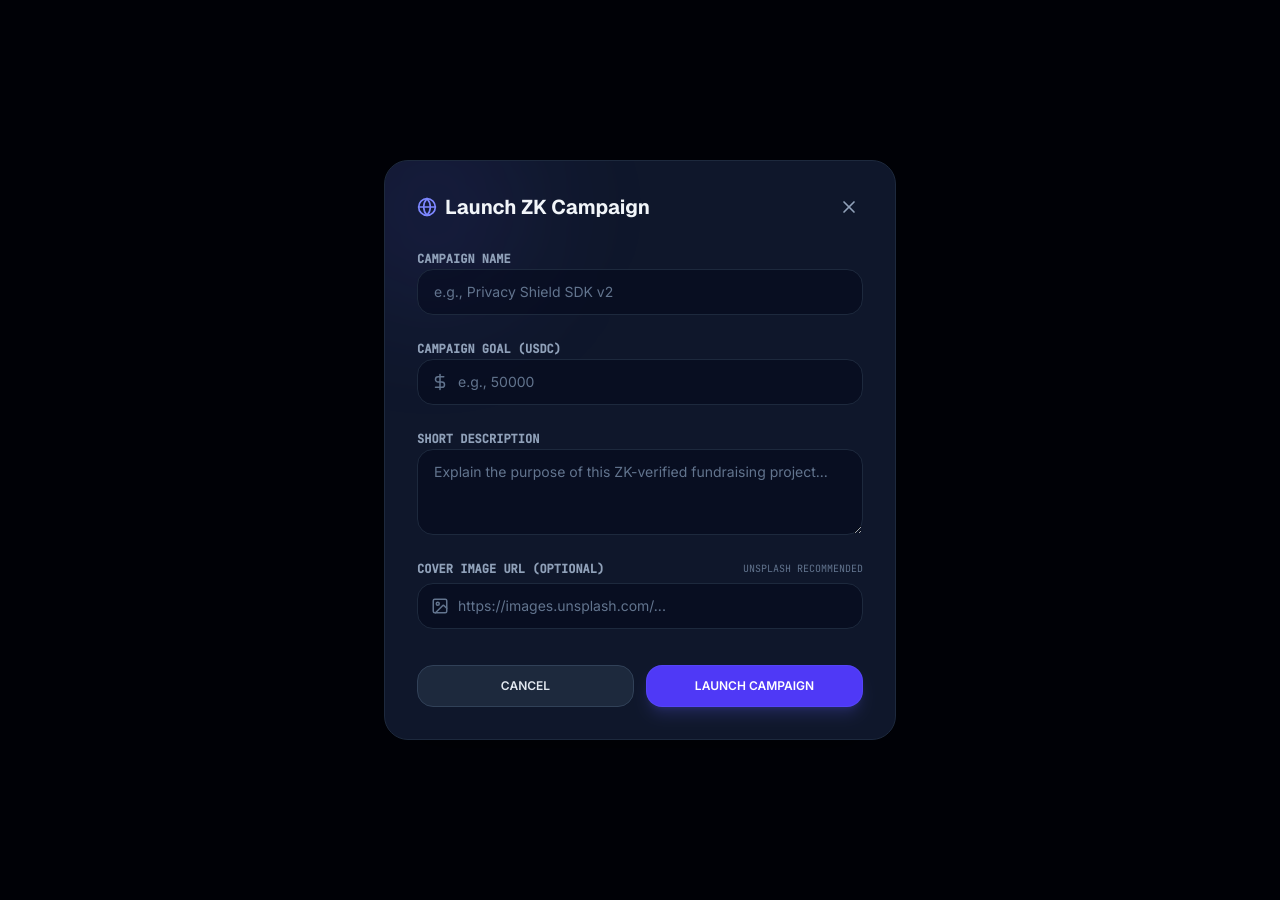
Test: LaunchCampaignModal › rejects non-https cover images before submitting
The width and height of the screenshot is (1280, 900).
Step 1. Type " Relief Q4 " into the field with placeholder "e.g., Privacy Shield SDK v2" → (640, 292), box [417, 269, 863, 315]
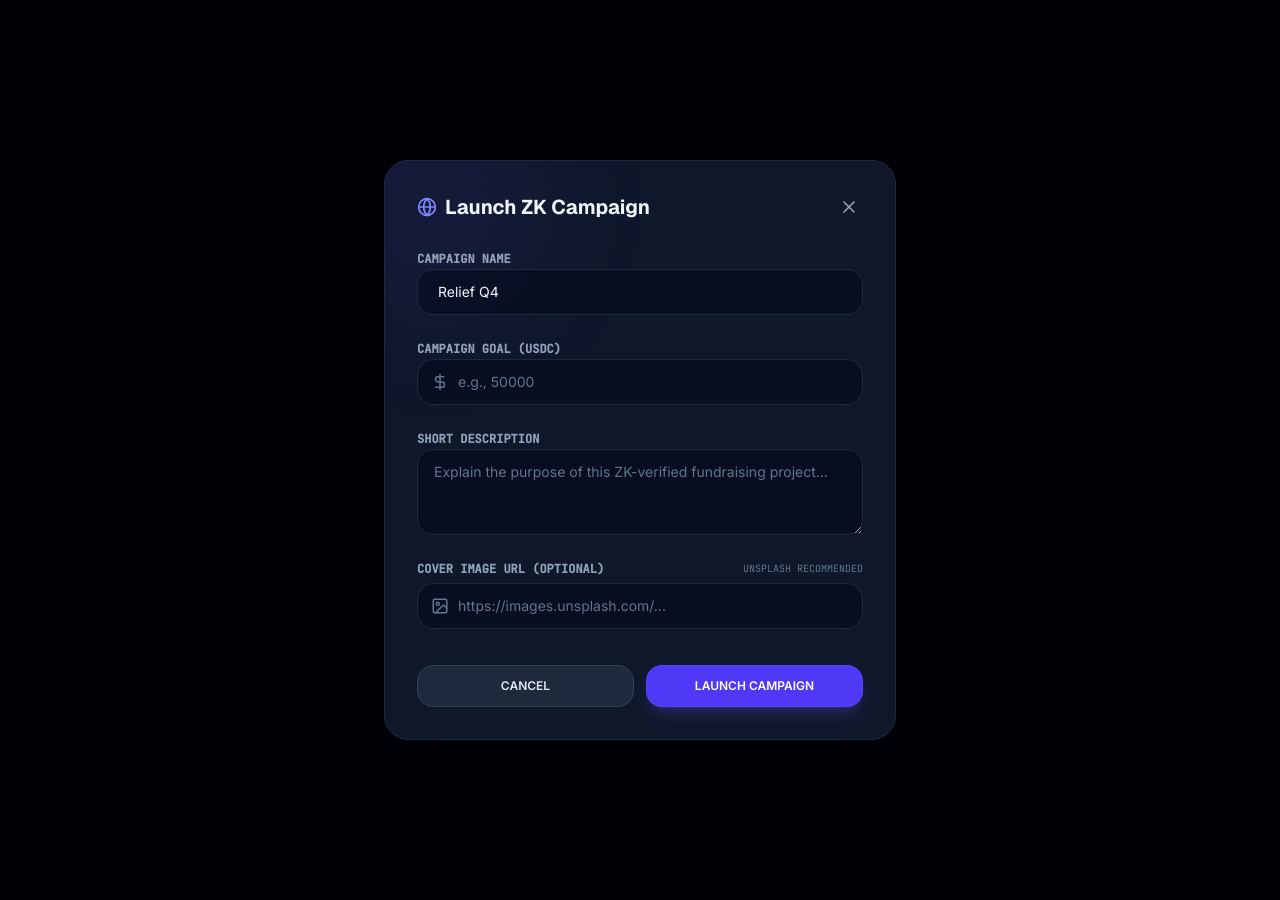
Step 2. Type "2500" into the number field with placeholder "e.g., 50000" → (640, 382), box [417, 359, 863, 405]
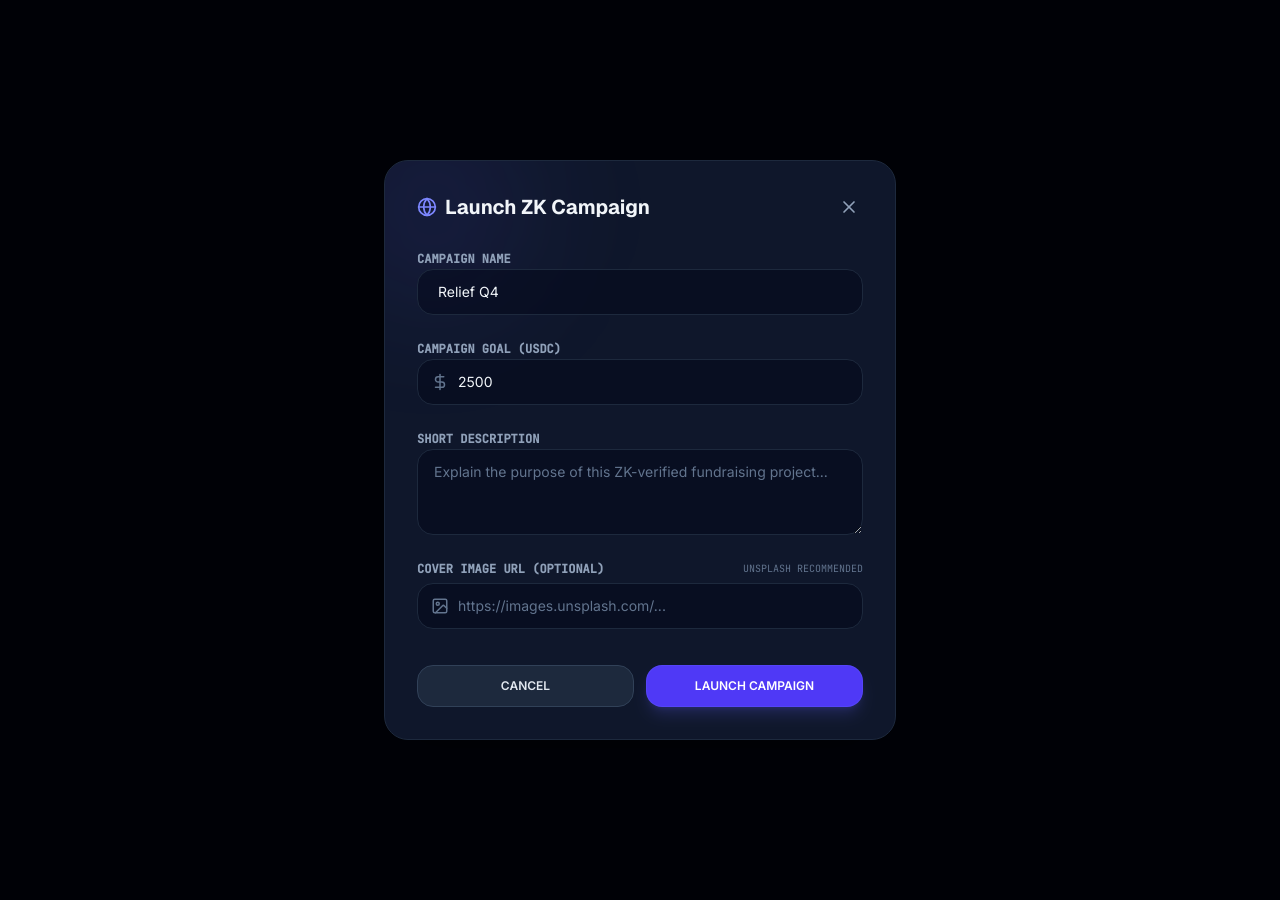
Step 3. Replace the text in the text box with placeholder "Explain the purpose" with "Emergency relief" → (640, 492), box [417, 449, 863, 535]
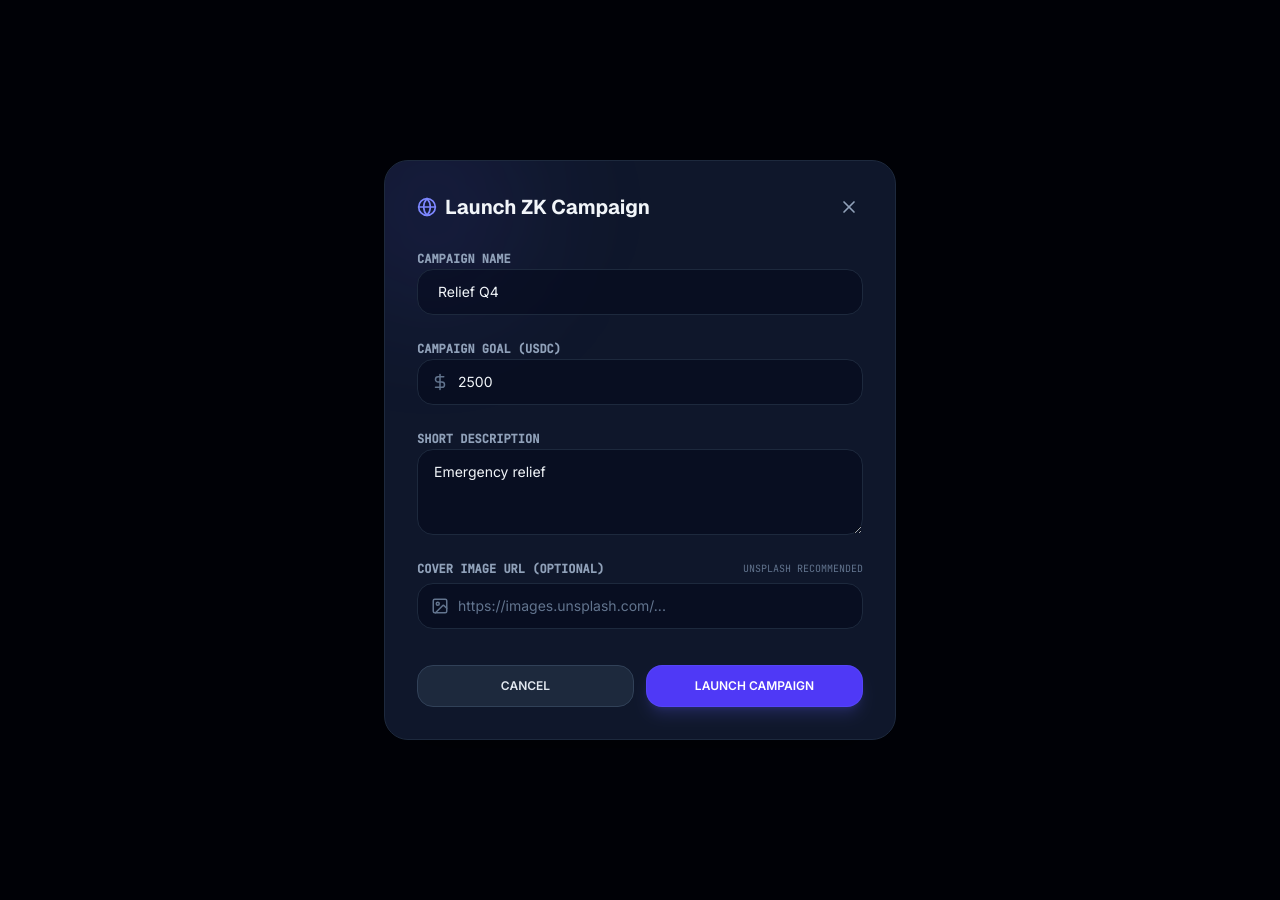
Step 4. Type "http://example.org/cover.jpg" into the field with placeholder "https://images.unsplash.com/..." → (640, 606), box [417, 583, 863, 629]
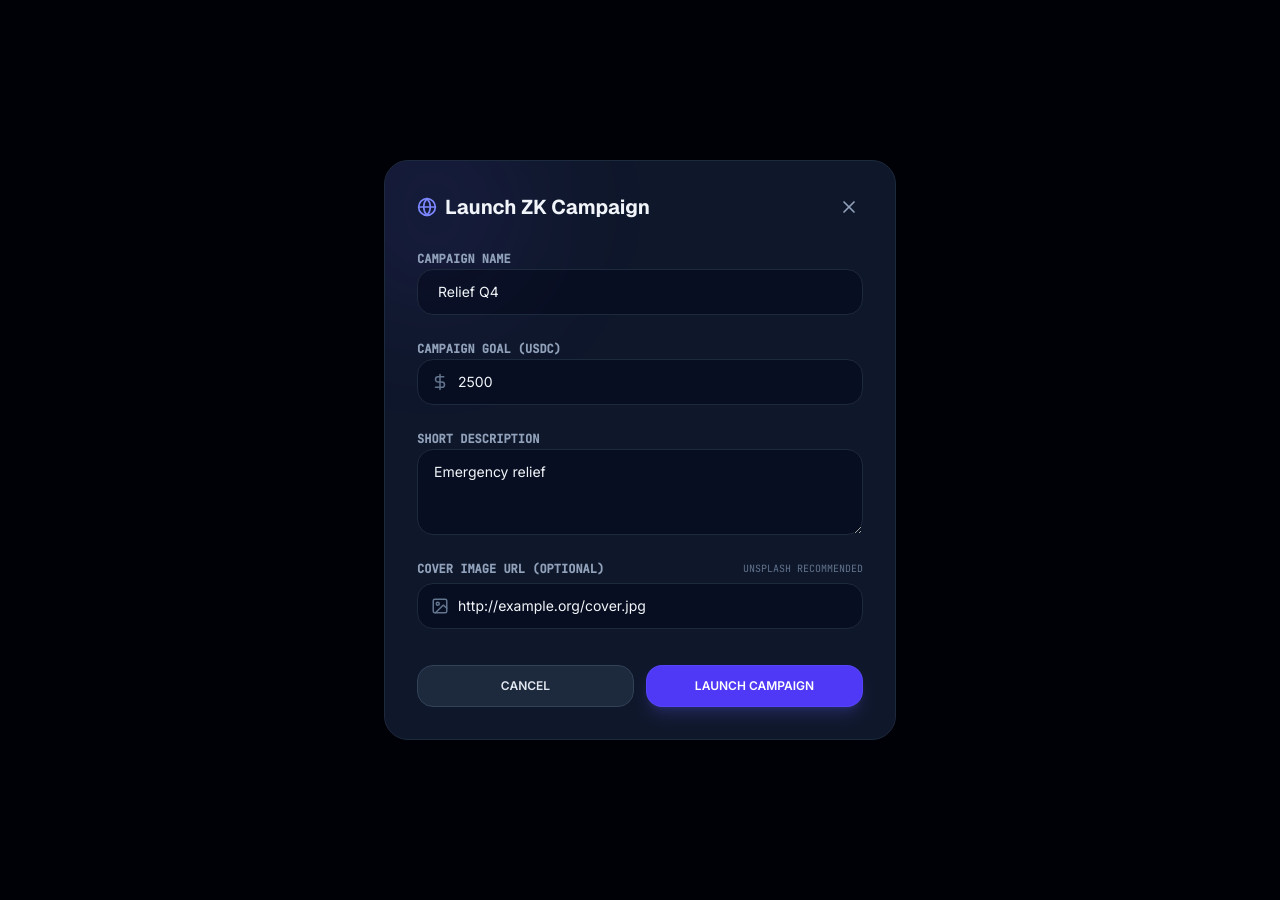
Step 5. Click the button "LAUNCH CAMPAIGN" → (754, 686), box [646, 665, 863, 707]
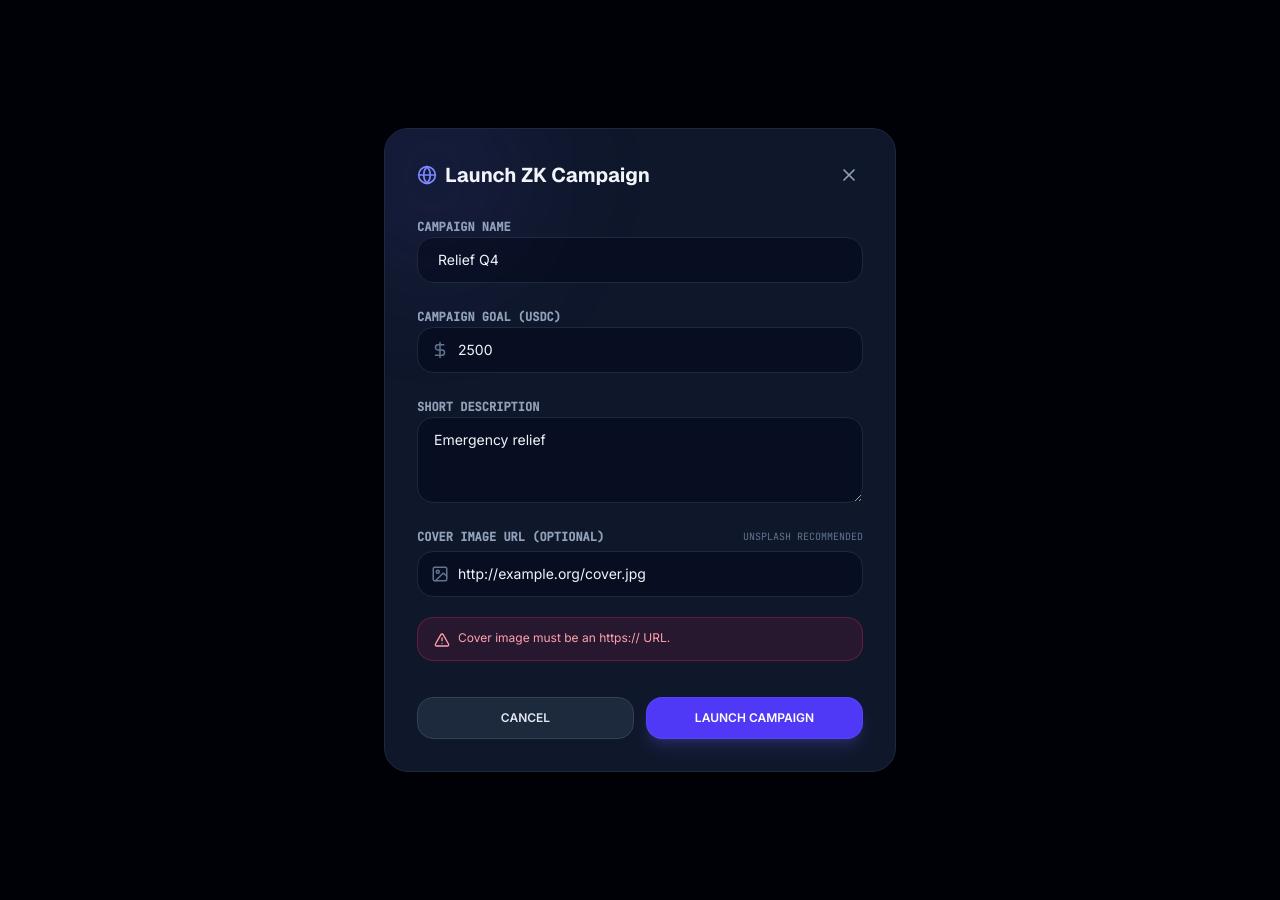
Expected: the message shows "https", [458, 630, 670, 645]
